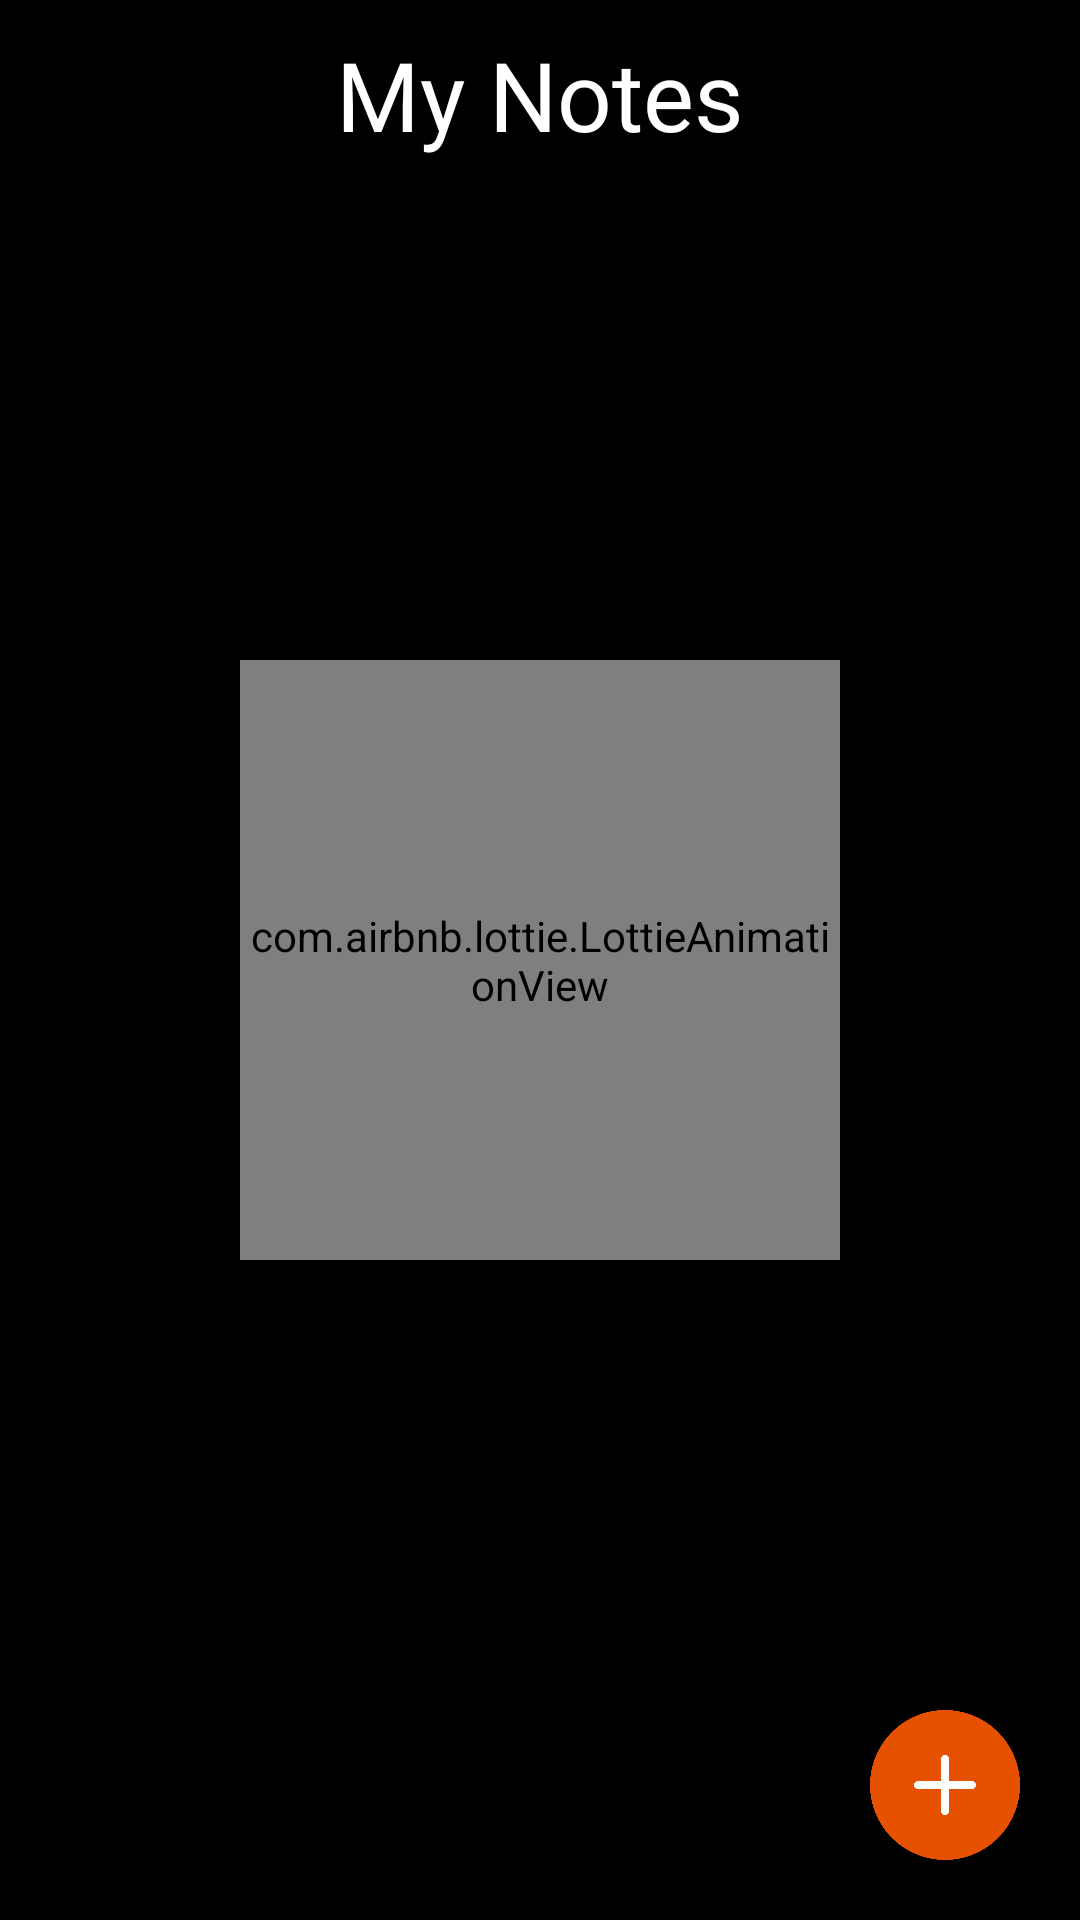

Point at icon controls on the screen. Image size 1080 × 1920, points as (x,y).
add: (945,1785)
